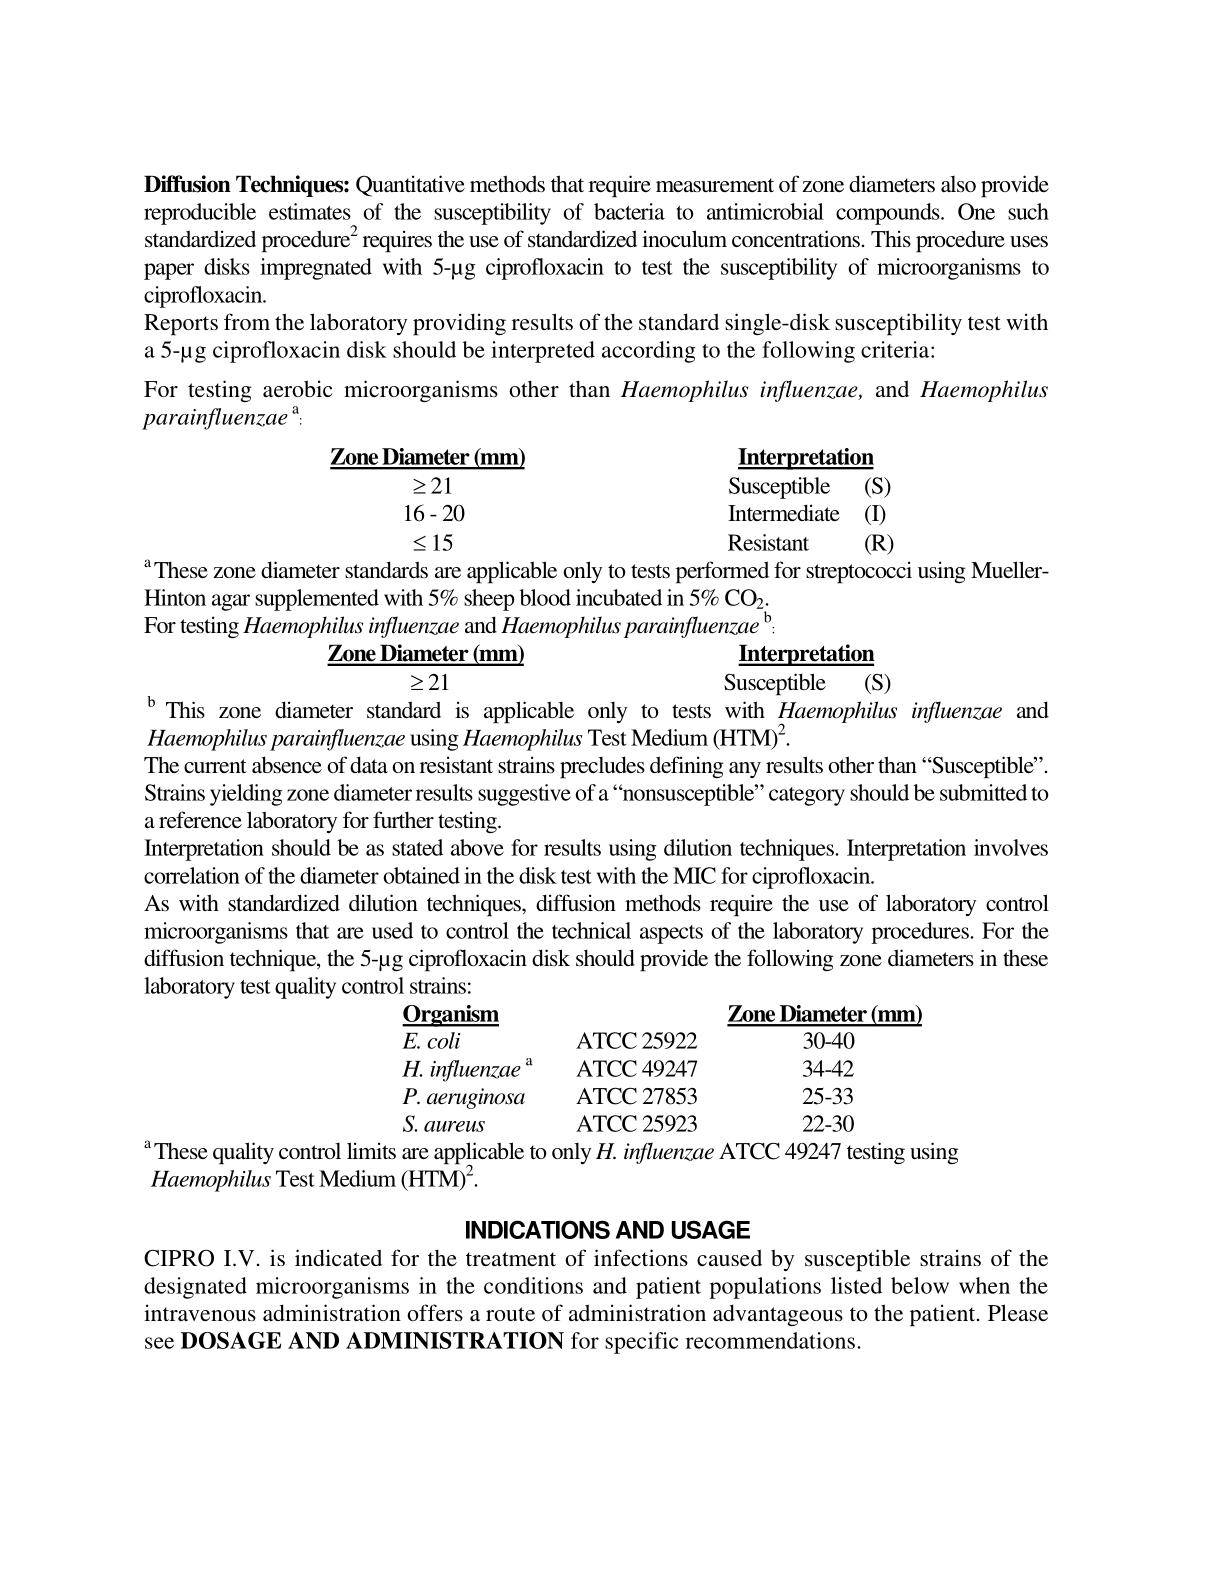nolines: (400, 1003, 923, 1134), (327, 442, 895, 555), (324, 642, 890, 696)
